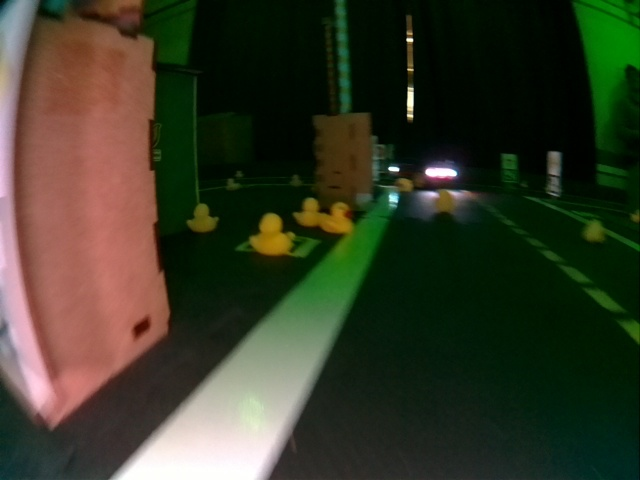Duckie: (252, 215, 292, 253), (322, 203, 354, 231), (186, 204, 219, 230), (295, 198, 321, 225), (435, 189, 454, 211), (585, 220, 605, 240), (395, 178, 413, 192), (226, 180, 237, 187), (291, 174, 299, 183)
Duckiebot: (425, 162, 459, 186)
QR code: (237, 233, 320, 256), (547, 175, 558, 194), (504, 171, 514, 178)
